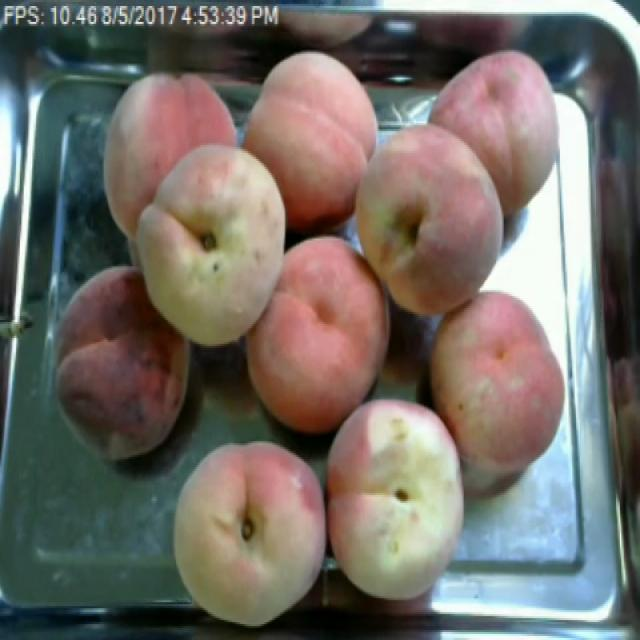Fruit: (336, 109, 519, 330), (120, 135, 301, 356), (233, 223, 404, 447), (159, 425, 328, 636), (411, 276, 578, 489), (326, 382, 482, 610), (39, 254, 202, 471), (236, 42, 393, 235), (421, 40, 576, 228)
